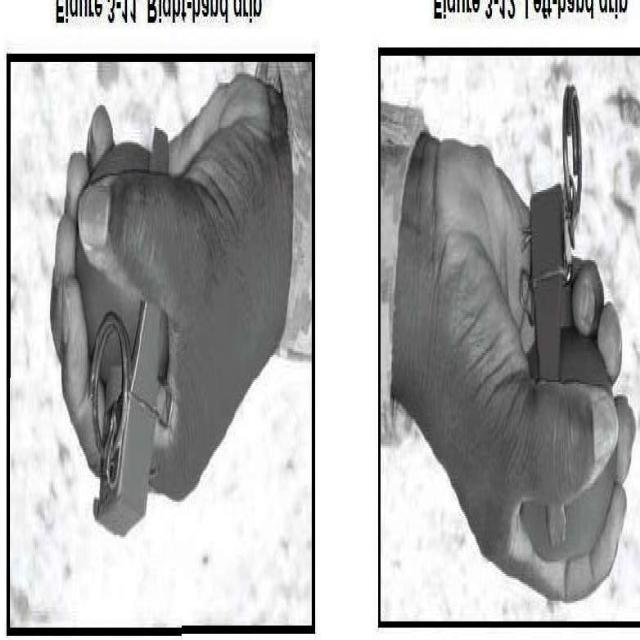grenade: (518, 89, 618, 565), (75, 127, 174, 540)
